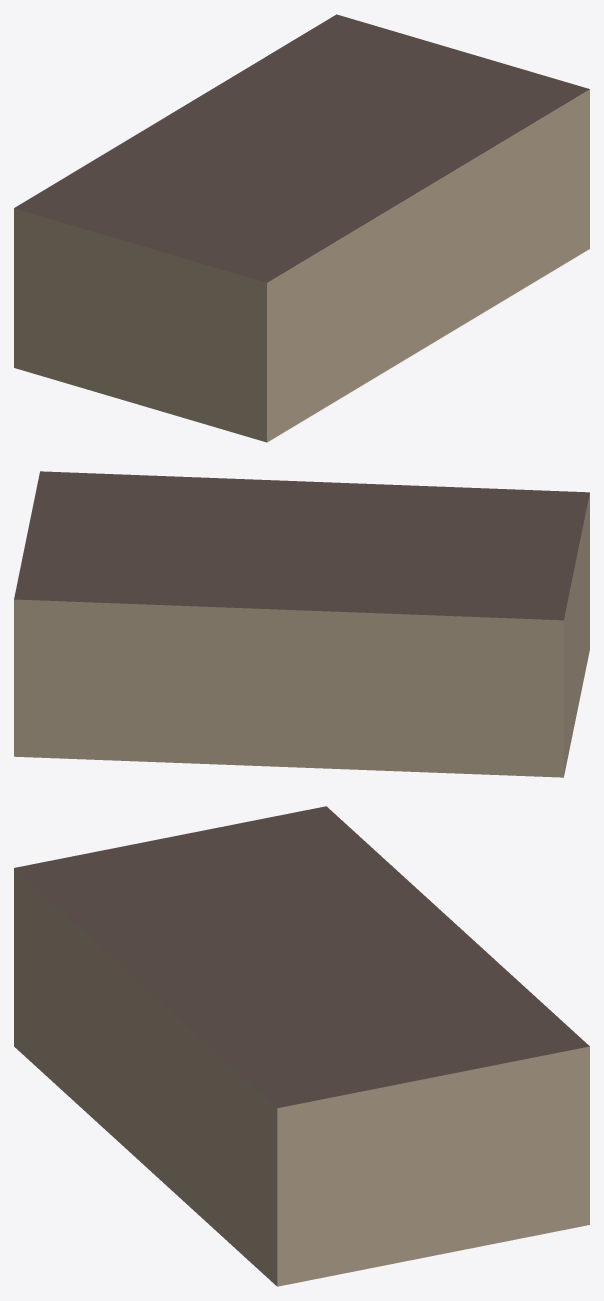
The picture shows the model from 3 angles, top to bottom: view 1: azimuth 30°, elevation 25°; view 2: azimuth 150°, elevation 25°; view 3: azimuth 270°, elevation 25°; orthographic projection. The views are drawn at different scales.
Visible parts, largest first — view 1: HP-w859488802; view 2: HP-w859488802; view 3: HP-w859488802.
Part boxes in pixels (x1,y1,x2,y2): HP-w859488802: (14,14,589,442); HP-w859488802: (14,471,589,777); HP-w859488802: (14,806,589,1286).
Size of the model in its own units: 32.66 by 9 by 26.32.
